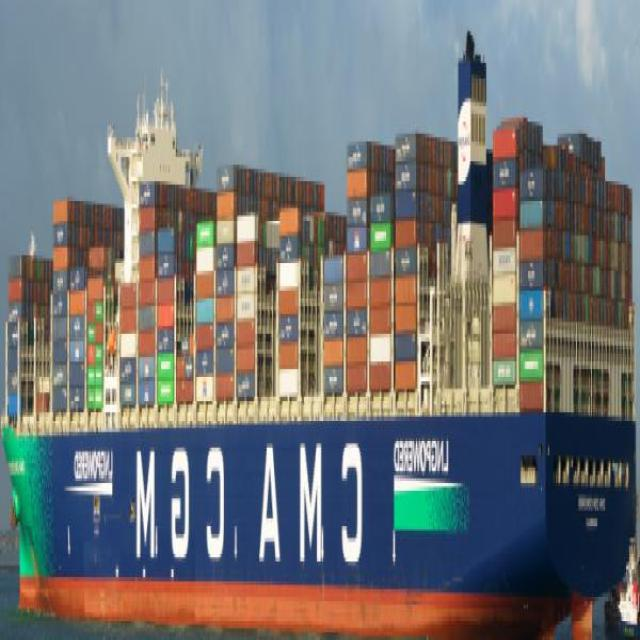Container Ship: (2, 24, 637, 636)
